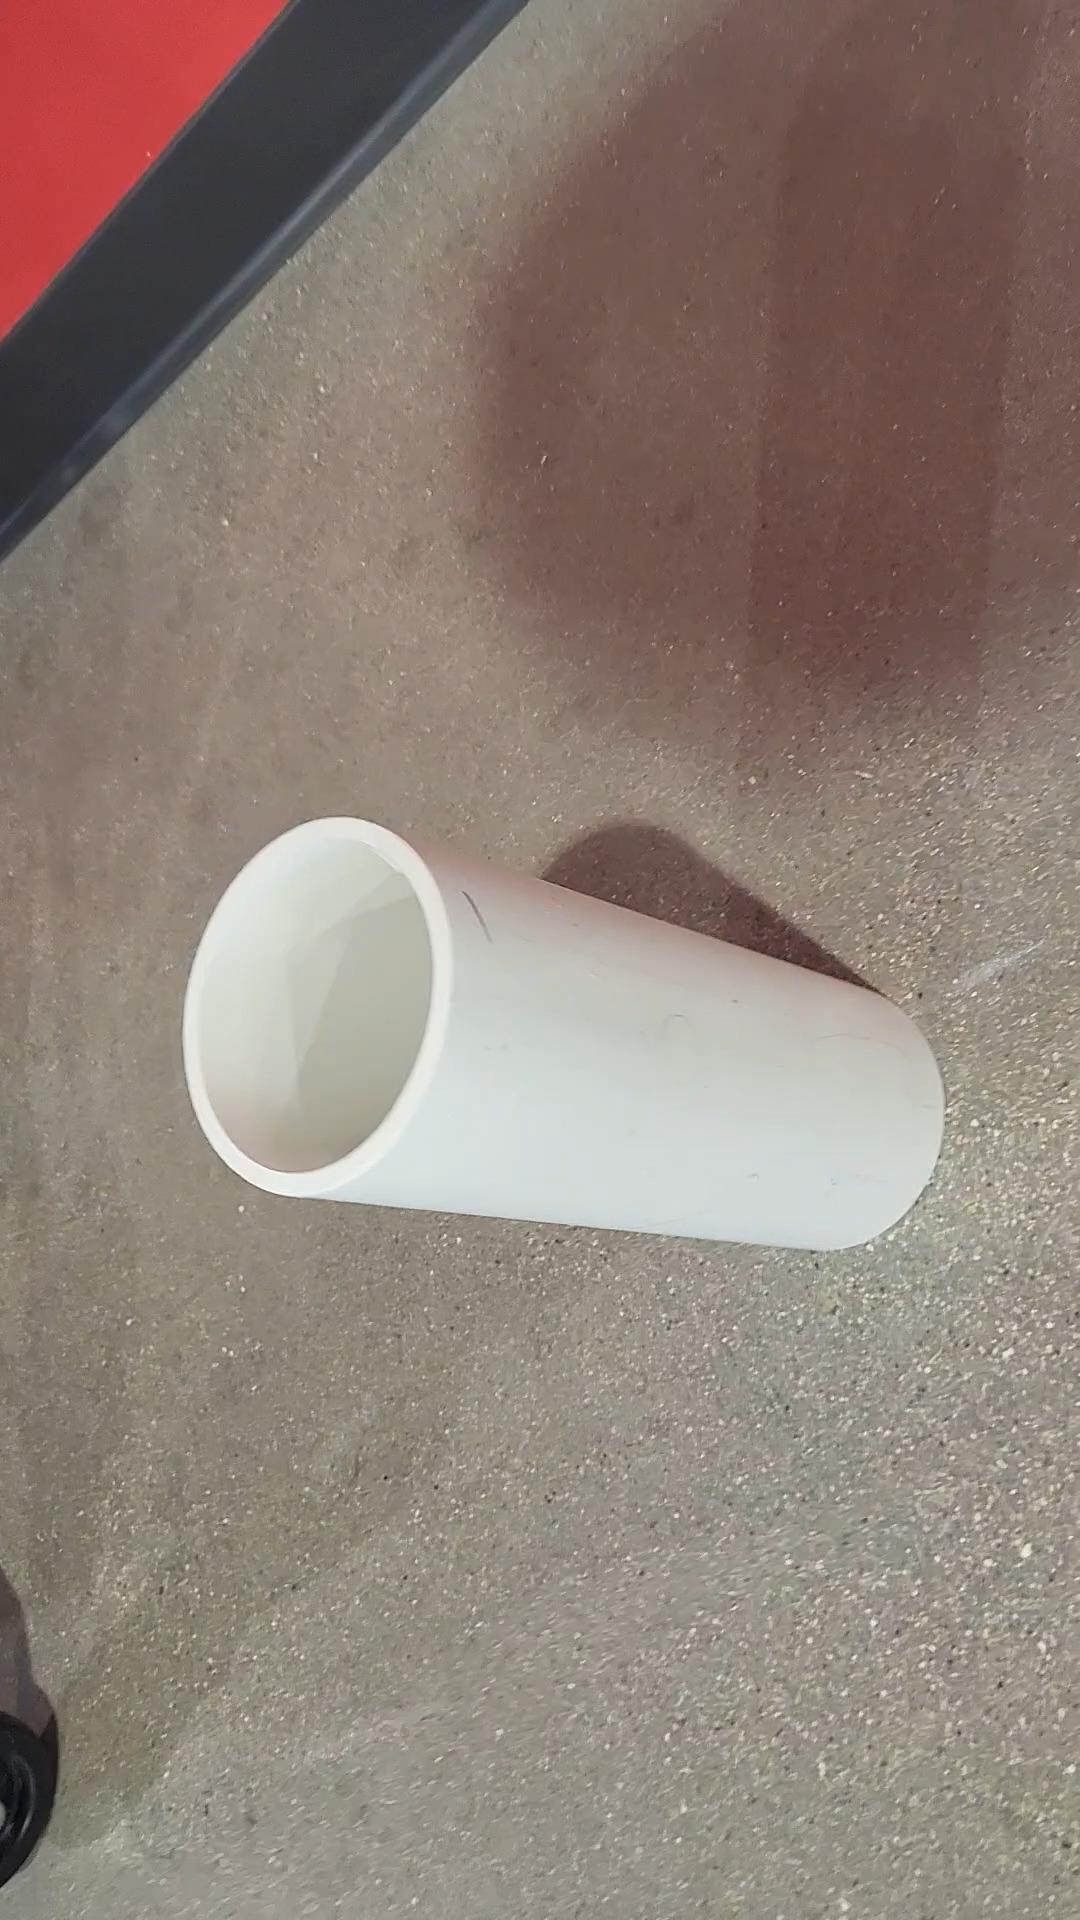coral: (187, 811, 949, 1253)
